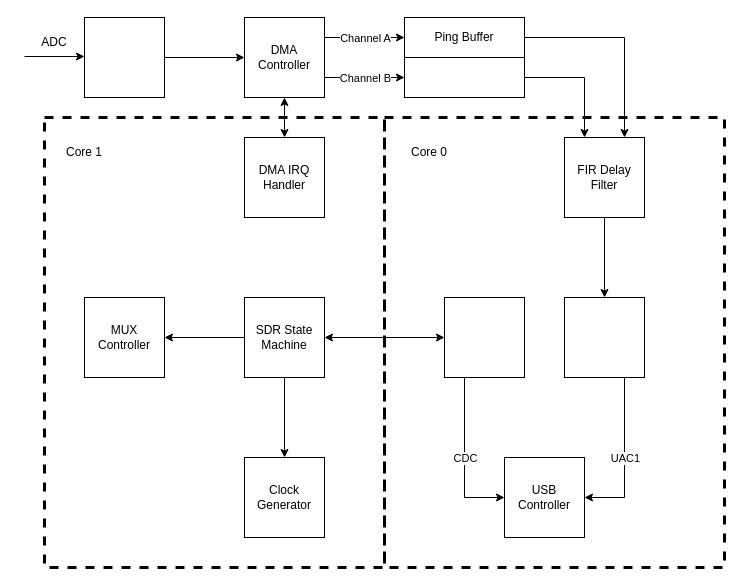
The diagram is 743 pixels wide and 586 high, and some of its shapes have lost their labels. The centre of each missing label's shape, as x and y in pixels:
"Audio Task" goes at point (604, 337).
"CDC Task" goes at point (484, 337).
"I2S PIO" goes at point (124, 57).
"Pong Buffer" goes at point (464, 77).
